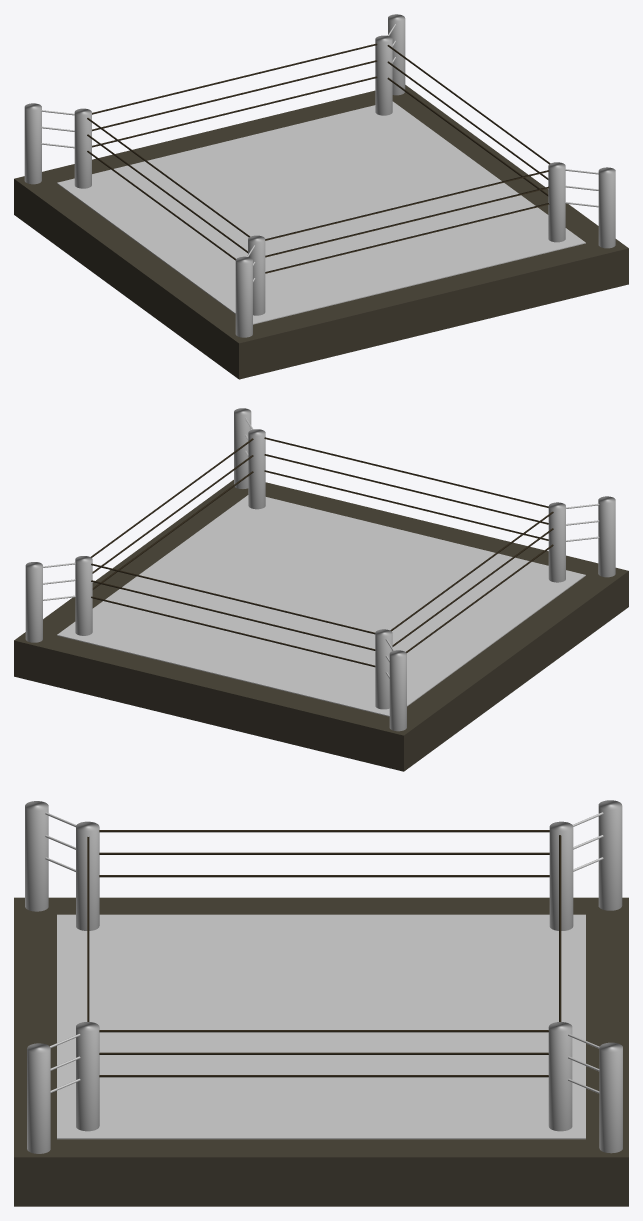
The model's file is ringpngoptymalizacja_blend22.fbx.
The picture shows the model from 3 angles, top to bottom: view 1: azimuth 30°, elevation 25°; view 2: azimuth 150°, elevation 25°; view 3: azimuth 270°, elevation 25°; orthographic projection. The views are drawn at different scales.
Visible parts, largest first — view 1: Cylinder; view 2: Cylinder; view 3: Cylinder.
Part boxes in pixels (left/top/right/bottom): Cylinder: left=14, top=14, right=628, bottom=379; Cylinder: left=14, top=408, right=628, bottom=771; Cylinder: left=14, top=800, right=628, bottom=1206.
Bounding box in the file's own units: 13000 × 3497 × 13000.
